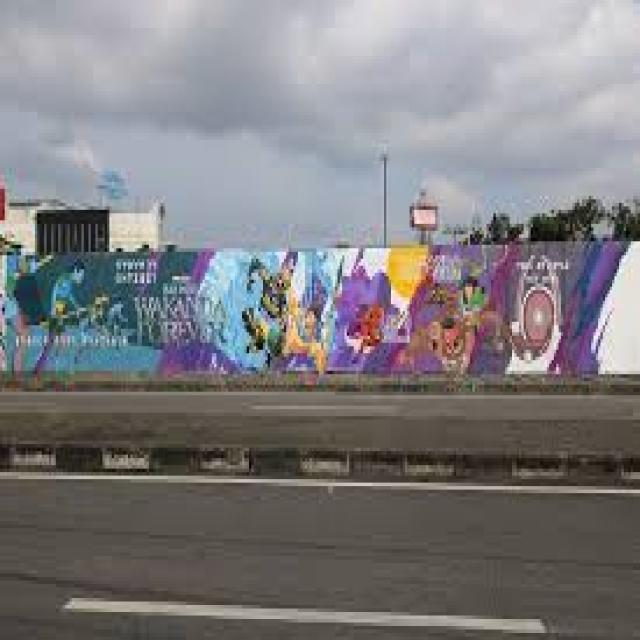-: (6, 249, 607, 372)
